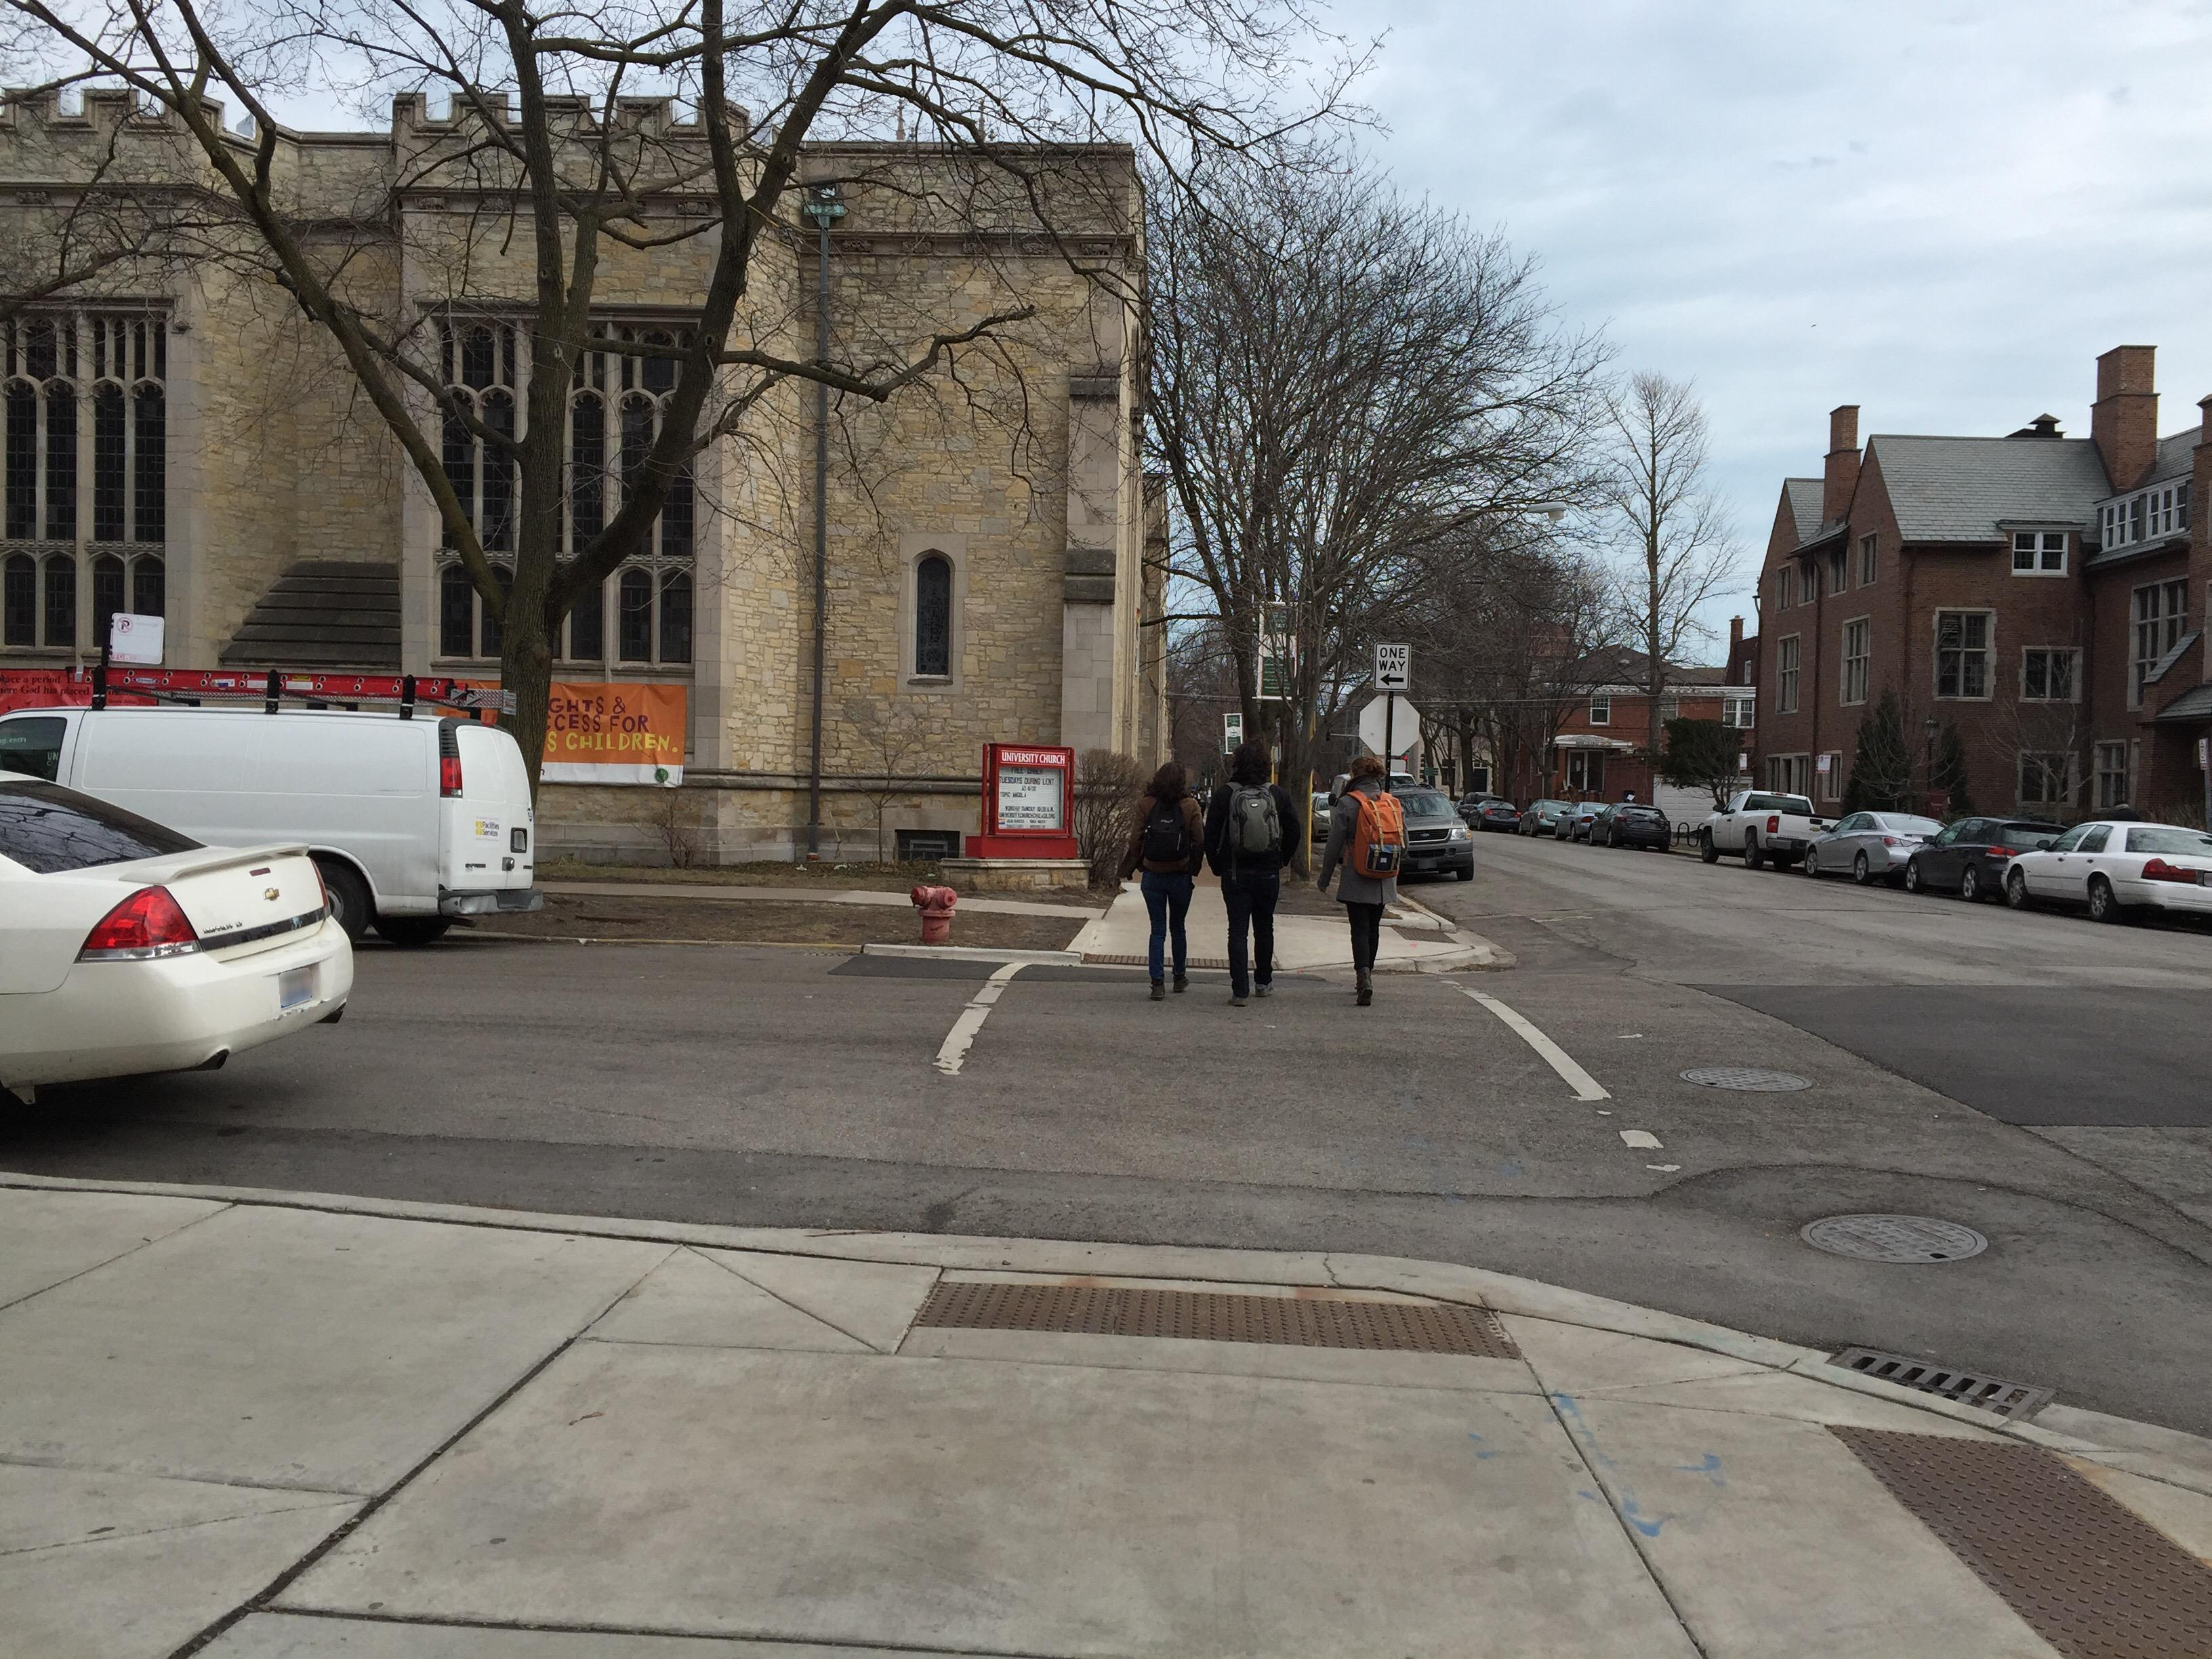vinyl banner: (458, 667, 709, 817)
